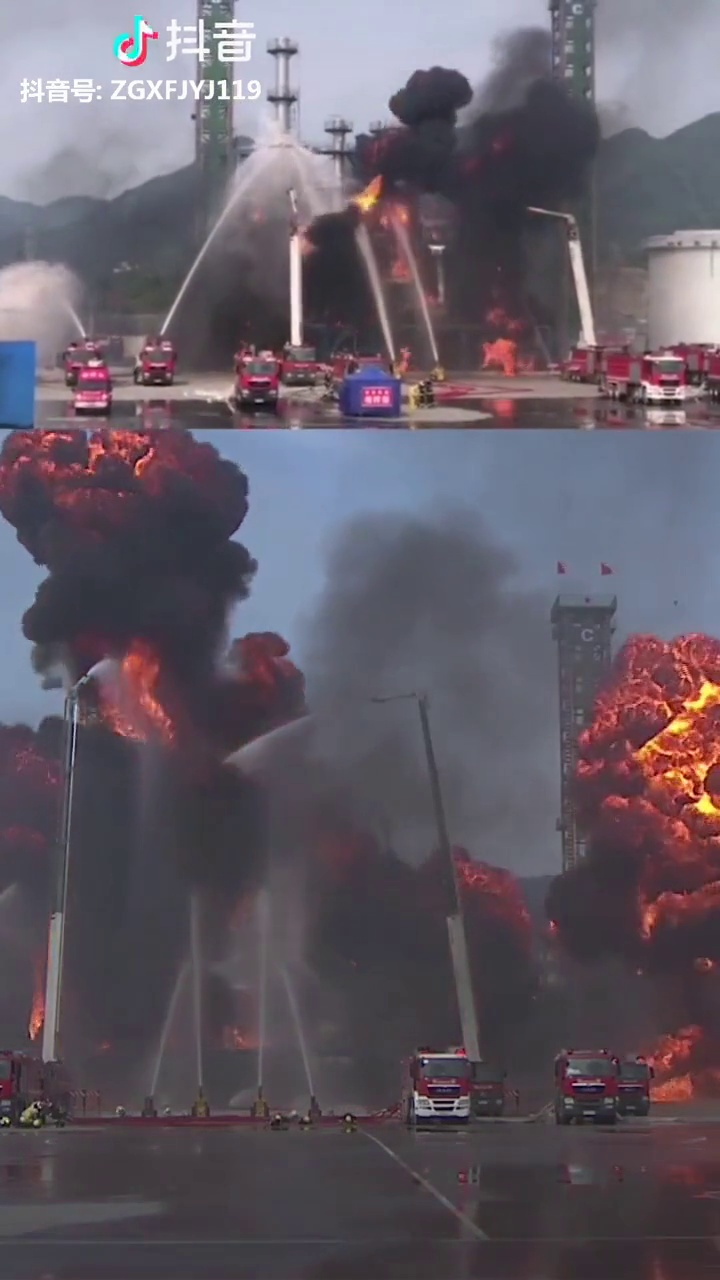fire: (11, 418, 255, 761), (566, 600, 713, 957)
yanwu: (280, 516, 511, 881)
